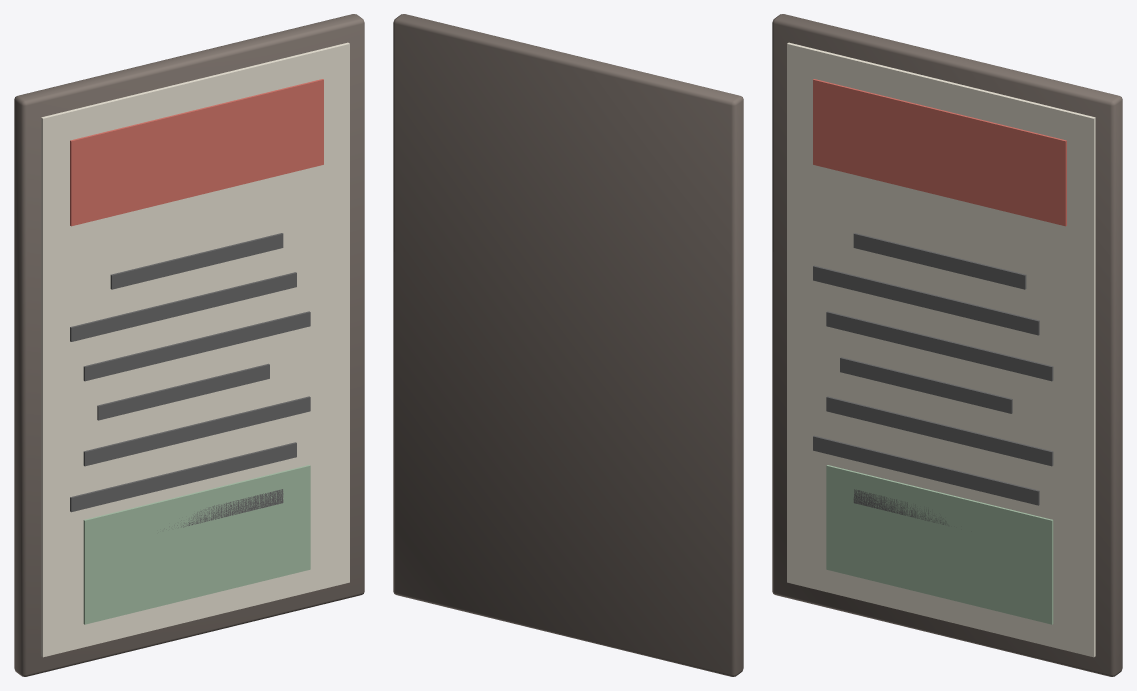
The model's file is fxadpanel.glb.
3 views of the same model, side by side, from view 1: azimuth 30°, elevation 25°; view 2: azimuth 150°, elevation 25°; view 3: azimuth 330°, elevation 25° (orthographic).
Parts seen in each view (by area): view 1: face, frame, photo, title, line2, line4, line1, line5, line0, line3, line6; view 2: frame; view 3: face, frame, photo, title, line2, line4, line1, line5, line0, line3, line6.
Part boxes in pixels (<box>): face: <box>41,42,349,657</box>; frame: <box>14,14,364,676</box>; photo: <box>83,465,310,624</box>; title: <box>70,79,323,226</box>; line2: <box>83,311,310,381</box>; line4: <box>83,396,310,466</box>; line1: <box>70,272,296,341</box>; line5: <box>70,442,296,512</box>; line0: <box>110,233,283,289</box>; line3: <box>97,363,269,420</box>; line6: <box>164,489,283,529</box>; frame: <box>393,14,743,676</box>; face: <box>787,42,1095,657</box>; frame: <box>772,14,1122,676</box>; photo: <box>826,465,1053,624</box>; title: <box>813,79,1066,226</box>; line2: <box>826,311,1053,381</box>; line4: <box>826,396,1053,466</box>; line1: <box>813,265,1039,335</box>; line5: <box>813,435,1039,505</box>; line0: <box>853,233,1026,289</box>; line3: <box>840,357,1012,413</box>; line6: <box>853,489,948,525</box>.
Bounding box in the file's own units: 0.76 × 1.22 × 0.0515.
